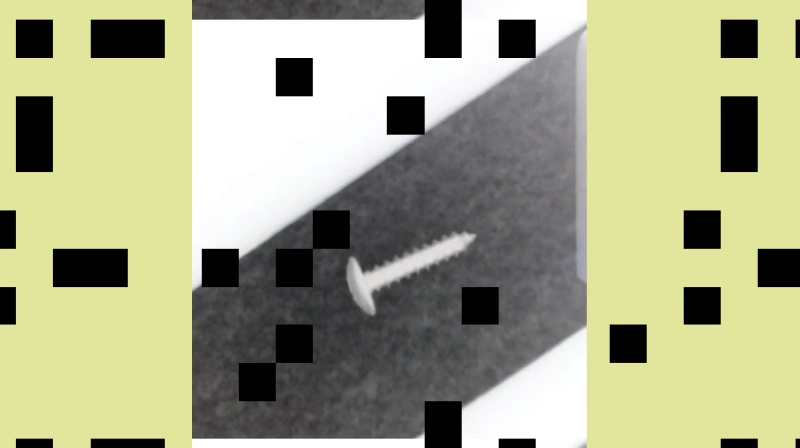S003: (344, 228, 476, 317)
